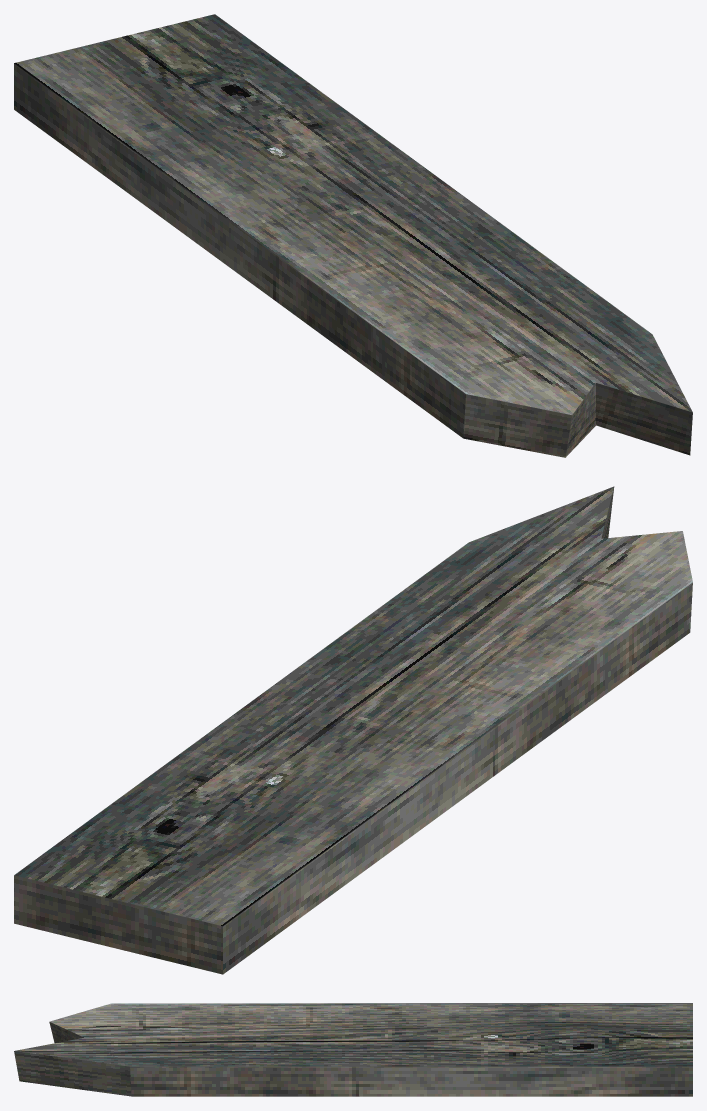
The model's file is wooden_plank_2.glb.
3 views of the same model, one above another, from view 1: azimuth 30°, elevation 25°; view 2: azimuth 150°, elevation 25°; view 3: azimuth 270°, elevation 25° (orthographic). The views are drawn at different scales.
Visible parts, largest first — view 1: Wooden_Plank_2; view 2: Wooden_Plank_2; view 3: Wooden_Plank_2.
Boxes of the visible parts, x1,y1,x2,y2 form: Wooden_Plank_2: [14, 14, 692, 457]; Wooden_Plank_2: [14, 486, 692, 974]; Wooden_Plank_2: [14, 1003, 692, 1096].
Size of the model in its own units: 0.4245 by 0.0938 by 1.93.
1 material, 1 textured.
